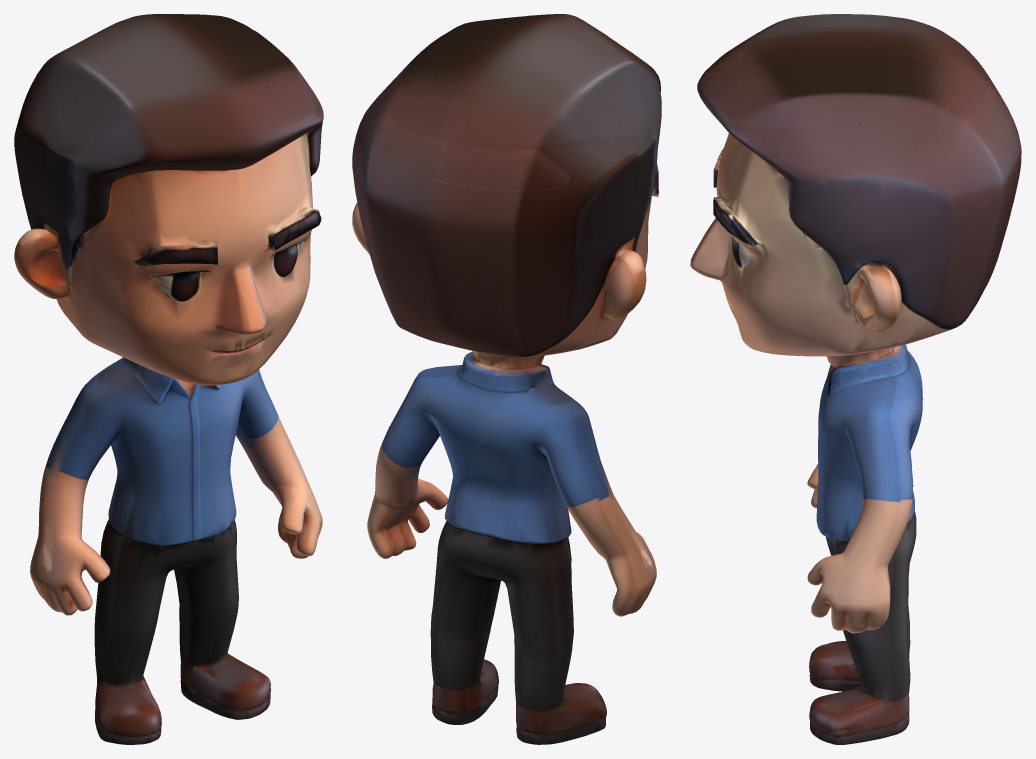
File: hitem3d-avatar-split.glb
The picture shows the model from 3 angles, left to right: view 1: azimuth 30°, elevation 25°; view 2: azimuth 150°, elevation 25°; view 3: azimuth 270°, elevation 25°; orthographic projection.
Visible parts, largest first — view 1: tmpprq9932uobj; view 2: tmpprq9932uobj; view 3: tmpprq9932uobj.
Part boxes in pixels (x1,y1,x2,y2): tmpprq9932uobj: (14,14,323,744); tmpprq9932uobj: (352,14,661,744); tmpprq9932uobj: (690,14,1021,744).
Size of the model in its own units: 0.4479 by 0.9999 by 0.4446.
Materials: 1 (1 with a texture image).
